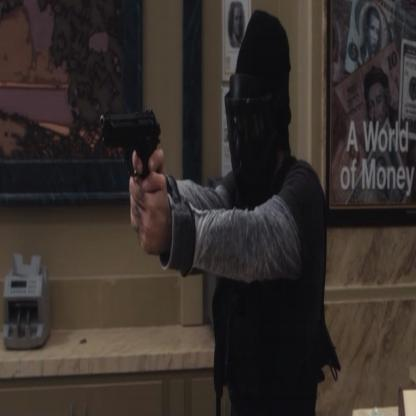gun: (86, 94, 166, 198)
